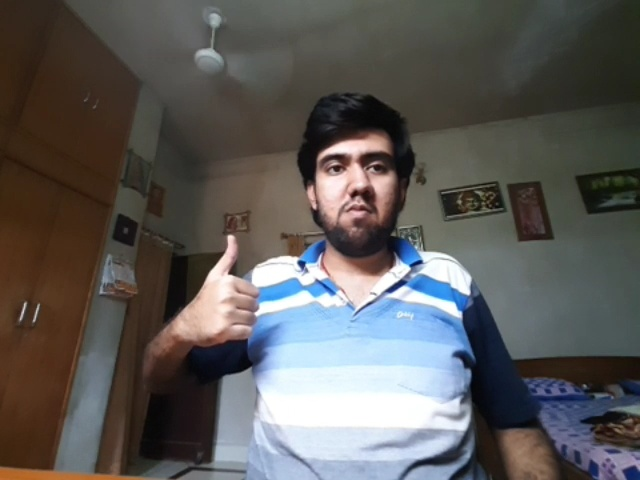Ok: (192, 234, 259, 344)
